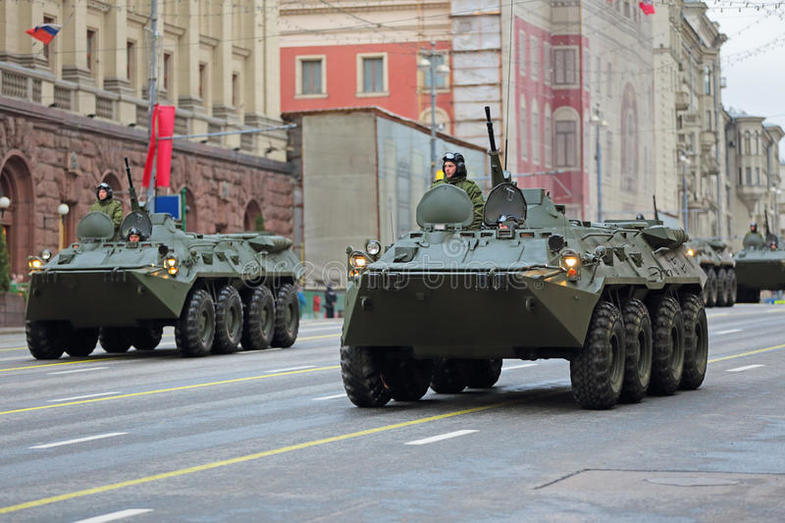btr: (344, 204, 712, 409)
